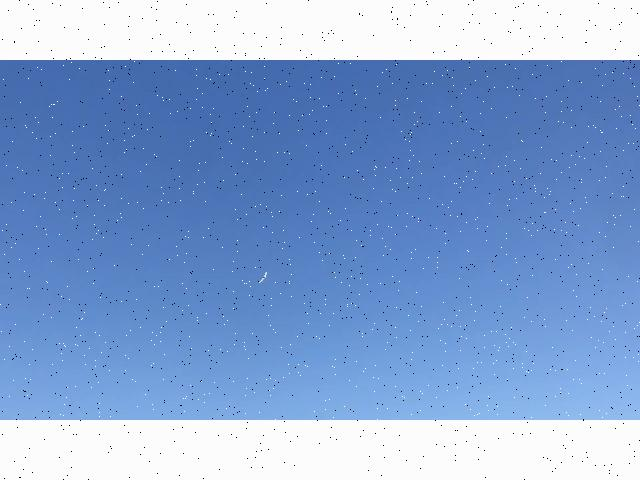Anti-Drone: (252, 260, 280, 290)
